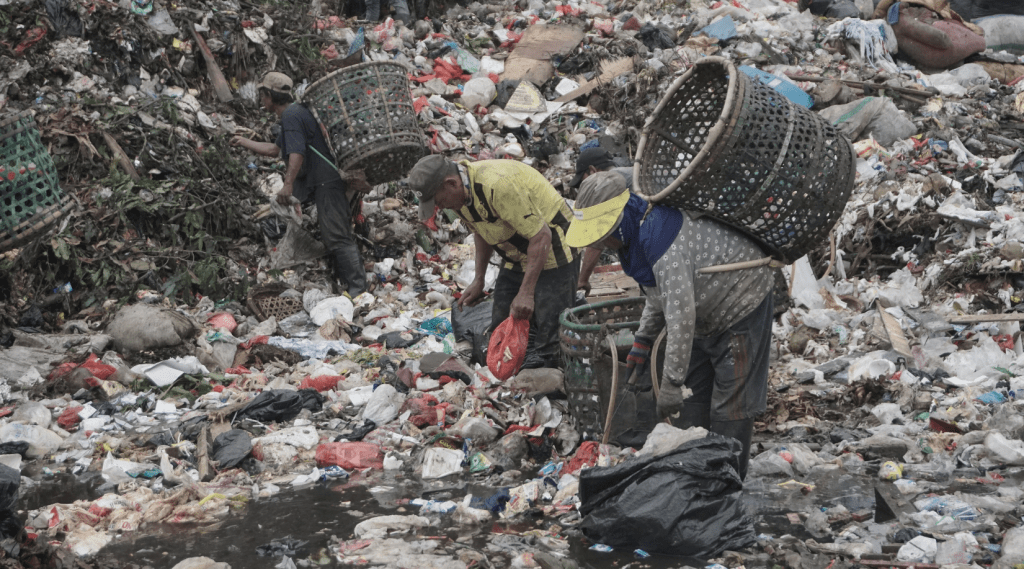pemulung: (548, 53, 862, 482), (231, 44, 427, 282)
